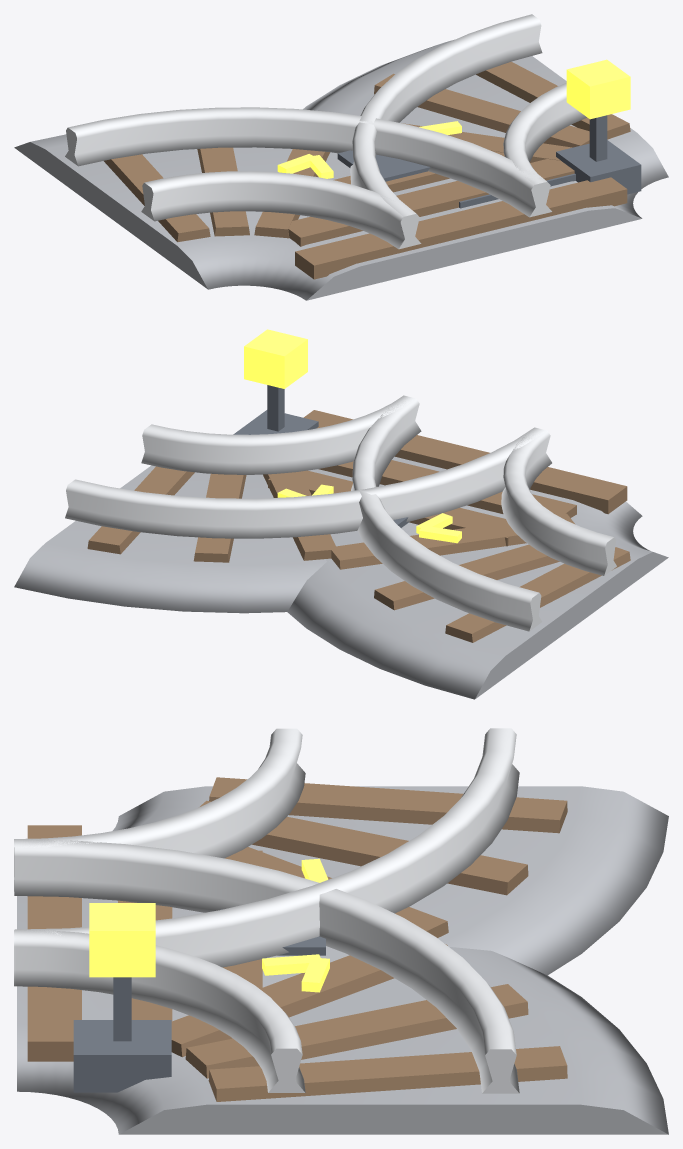
Rendered from track_yswitch.glb.
3 renders of one model, top to bottom at view 1: azimuth 30°, elevation 25°; view 2: azimuth 150°, elevation 25°; view 3: azimuth 270°, elevation 25°, orthographic. The views are drawn at different scales.
Visible parts, largest first — view 1: TrackYSwitch; view 2: TrackYSwitch; view 3: TrackYSwitch.
Boxes of the visible parts, <box> form: TrackYSwitch: <box>14,14,668,300</box>; TrackYSwitch: <box>14,329,668,699</box>; TrackYSwitch: <box>14,728,668,1134</box>.
Bounding box in the file's own units: 1.01 × 0.249 × 0.869.
